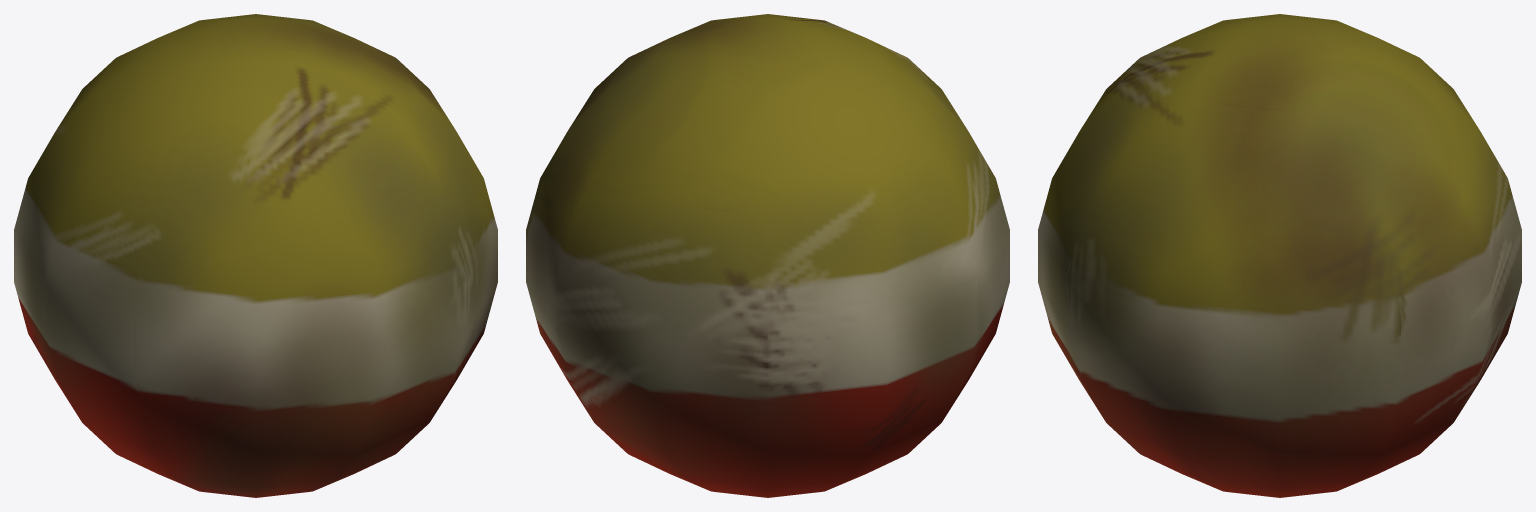
File: Prop_SmallBall002.glb
The picture shows the model from 3 angles, left to right: view 1: azimuth 30°, elevation 25°; view 2: azimuth 150°, elevation 25°; view 3: azimuth 270°, elevation 25°; orthographic projection.
Visible parts, largest first — view 1: Sphere.002; view 2: Sphere.002; view 3: Sphere.002.
Part boxes in pixels (<box>): Sphere.002: <box>14,14,497,497</box>; Sphere.002: <box>526,14,1009,497</box>; Sphere.002: <box>1038,14,1521,497</box>.
Size of the model in its own units: 0.25 by 0.25 by 0.25.
Materials: 1 (1 with a texture image).
